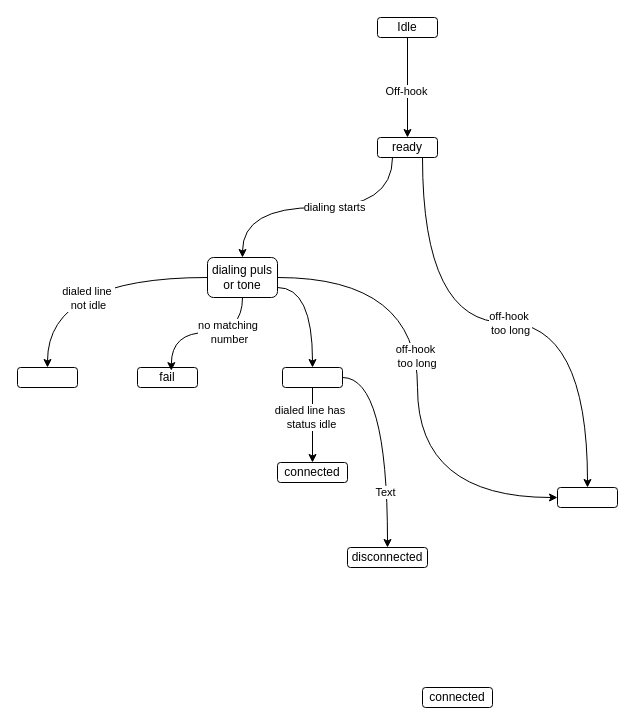
This 635x725 diagram has some shape labels left out. The centre of each missing label's shape, as x and y in pixels:
"busy" belongs at (47,377).
"ringing" belongs at (312,377).
"timeout" belongs at (587,497).
